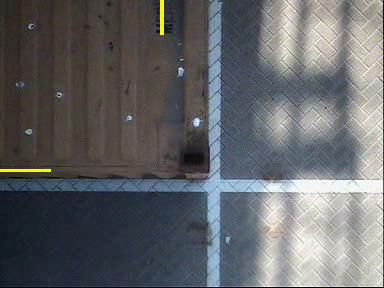groundmarker_2: (149, 180, 284, 240)
